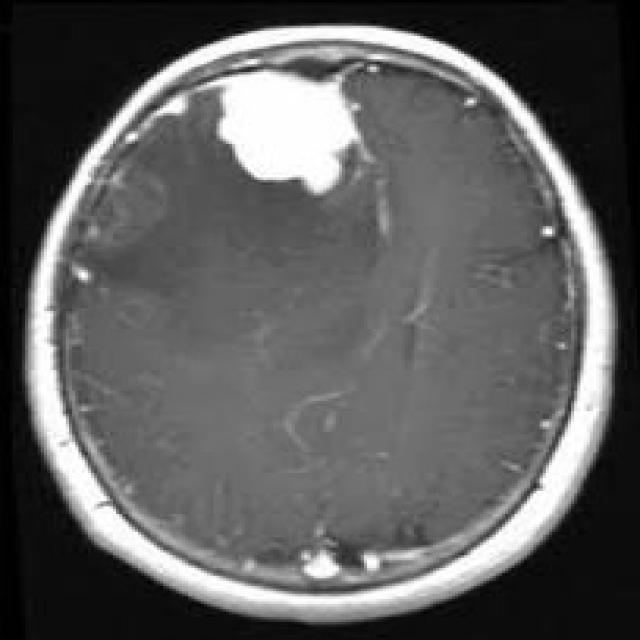Meningioma: (211, 71, 360, 194)
